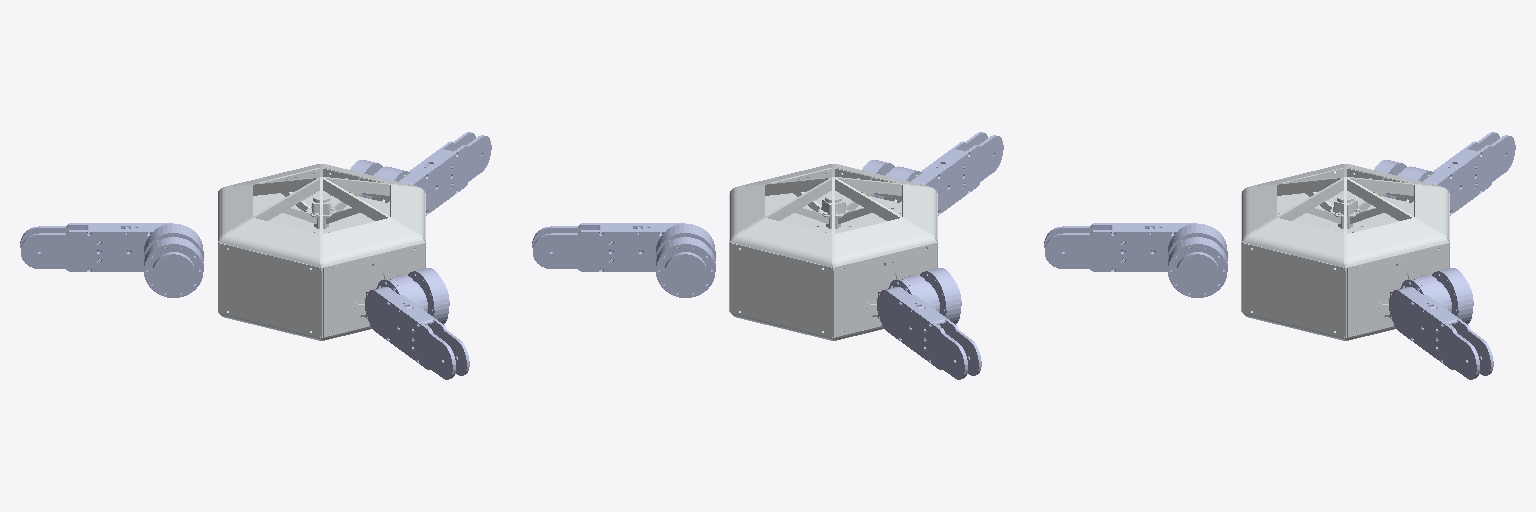
URDF robot description (tripod8):
<?xml version="1.0" encoding="utf-8"?>
<!-- This URDF was automatically created by SolidWorks to URDF Exporter! Originally created by [author] ([email redacted]) 
     Commit Version: 1.6.0-4-g7f85cfe  Build Version: 1.6.7995.38578
     For more information, please see http://wiki.ros.org/sw_urdf_exporter -->
<robot
  name="tripod8">
  <link
    name="base_link">
    <inertial>
      <origin
        xyz="-0.0031291 0.020397 0.025785"
        rpy="0 0 0" />
      <mass
        value="11.372" />
      <inertia
        ixx="0.040607"
        ixy="0.010264"
        ixz="-4.0858E-07"
        iyy="0.052892"
        iyz="-5.2154E-08"
        izz="0.071045" />
    </inertial>
    <visual>
      <origin
        xyz="0 0 0"
        rpy="0 0 0" />
      <geometry>
        <mesh
          filename="package://tripod8/meshes/base_link.STL" />
      </geometry>
      <material
        name="">
        <color
          rgba="0.89804 0.91765 0.92941 1" />
      </material>
    </visual>
    <collision>
      <origin
        xyz="0 0 0"
        rpy="0 0 0" />
      <geometry>
        <mesh
          filename="package://tripod8/meshes/base_link.STL" />
      </geometry>
    </collision>
  </link>
  <link
    name="sec01">
    <inertial>
      <origin
        xyz="0.00048653 0.015913 -3.1489E-05"
        rpy="0 0 0" />
      <mass
        value="0.69712" />
      <inertia
        ixx="0.0011428"
        ixy="-9.0045E-05"
        ixz="-4.1383E-07"
        iyy="0.0011939"
        iyz="-4.927E-19"
        izz="0.00095487" />
    </inertial>
    <visual>
      <origin
        xyz="0 0 0"
        rpy="0 0 0" />
      <geometry>
        <mesh
          filename="package://tripod8/meshes/sec01.STL" />
      </geometry>
      <material
        name="">
        <color
          rgba="0.79216 0.81961 0.93333 1" />
      </material>
    </visual>
    <collision>
      <origin
        xyz="0 0 0"
        rpy="0 0 0" />
      <geometry>
        <mesh
          filename="package://tripod8/meshes/sec01.STL" />
      </geometry>
    </collision>
  </link>
  <joint
    name="leg01"
    type="revolute">
    <origin
      xyz="-0.0027021 -0.19892 0.029643"
      rpy="0 0 -1.5708" />
    <parent
      link="base_link" />
    <child
      link="sec01" />
    <axis
      xyz="1 0 0" />
    <limit
      lower="-1.571"
      upper="1.571"
      effort="10000"
      velocity="10000" />
  </joint>
  <link
    name="hsec01">
    <inertial>
      <origin
        xyz="-0.085802207284442 -0.0586652892981549 -0.00128195126910838"
        rpy="0 0 0" />
      <mass
        value="2.59385289729097" />
      <inertia
        ixx="0.0132813286063691"
        ixy="2.30713341803901E-07"
        ixz="7.37838868928084E-06"
        iyy="0.00186263080107763"
        iyz="1.88984474958546E-06"
        izz="0.0117381218254458" />
    </inertial>
    <visual>
      <origin
        xyz="0 0 0"
        rpy="0 0 0" />
      <geometry>
        <mesh
          filename="package://tripod8/meshes/hsec01.STL" />
      </geometry>
      <material
        name="">
        <color
          rgba="0.792156862745098 0.819607843137255 0.933333333333333 1" />
      </material>
    </visual>
    <collision>
      <origin
        xyz="0 0 0"
        rpy="0 0 0" />
      <geometry>
        <mesh
          filename="package://tripod8/meshes/hsec01.STL" />
      </geometry>
    </collision>
  </link>
  <joint
    name="high01"
    type="revolute">
    <origin
      xyz="0.078806 0.0895 0"
      rpy="0 0 1.5708" />
    <parent
      link="sec01" />
    <child
      link="hsec01" />
    <axis
      xyz="-1 0 0" />
    <limit
      lower="-1.571"
      upper="1.571"
      effort="10000"
      velocity="10000" />
  </joint>
  <link
    name="lsec01">
    <inertial>
      <origin
        xyz="-0.00741155948002789 -0.0534070820824173 -2.19114356152239E-07"
        rpy="0 0 0" />
      <mass
        value="0.292019066527945" />
      <inertia
        ixx="0.000681104991544854"
        ixy="3.0350485896022E-10"
        ixz="-6.21574685994639E-10"
        iyy="8.62621908768422E-05"
        iyz="-1.16761217824152E-09"
        izz="0.000615710465634299" />
    </inertial>
    <visual>
      <origin
        xyz="0 0 0"
        rpy="0 0 0" />
      <geometry>
        <mesh
          filename="package://tripod8/meshes/lsec01.STL" />
      </geometry>
      <material
        name="">
        <color
          rgba="0.792156862745098 0.819607843137255 0.933333333333333 1" />
      </material>
    </visual>
    <collision>
      <origin
        xyz="0 0 0"
        rpy="0 0 0" />
      <geometry>
        <mesh
          filename="package://tripod8/meshes/lsec01.STL" />
      </geometry>
    </collision>
  </link>
  <joint
    name="low01"
    type="revolute">
    <origin
      xyz="-0.10655 -0.26964 -0.0021"
      rpy="0 0 0" />
    <parent
      link="hsec01" />
    <child
      link="lsec01" />
    <axis
      xyz="-1 0 0" />
    <limit
      lower="-1.571"
      upper="1.571"
      effort="10000"
      velocity="10000" />
  </joint>
  <link
    name="sec02">
    <inertial>
      <origin
        xyz="0.00048653095865675 0.0159126224363777 -3.14892804915562E-05"
        rpy="0 0 0" />
      <mass
        value="0.697122142025587" />
      <inertia
        ixx="0.00114281706366662"
        ixy="-9.00446160794231E-05"
        ixz="-4.13827473961487E-07"
        iyy="0.00119389494778556"
        iyz="-6.26913266013083E-19"
        izz="0.000954871408355487" />
    </inertial>
    <visual>
      <origin
        xyz="0 0 0"
        rpy="0 0 0" />
      <geometry>
        <mesh
          filename="package://tripod8/meshes/sec02.STL" />
      </geometry>
      <material
        name="">
        <color
          rgba="0.792156862745098 0.819607843137255 0.933333333333333 1" />
      </material>
    </visual>
    <collision>
      <origin
        xyz="0 0 0"
        rpy="0 0 0" />
      <geometry>
        <mesh
          filename="package://tripod8/meshes/sec02.STL" />
      </geometry>
    </collision>
  </link>
  <joint
    name="leg02"
    type="revolute">
    <origin
      xyz="0.18577 0.12753 0.029643"
      rpy="0 0 0.5236" />
    <parent
      link="base_link" />
    <child
      link="sec02" />
    <axis
      xyz="1 0 0" />
    <limit
      lower="-1.571"
      upper="1.571"
      effort="10000"
      velocity="10000" />
  </joint>
  <link
    name="hsec02">
    <inertial>
      <origin
        xyz="-0.0936880803892596 0.0449324326469038 -0.00132320363478538"
        rpy="0 0 0" />
      <mass
        value="2.58967801426391" />
      <inertia
        ixx="0.00471738722941004"
        ixy="-0.00494456996283436"
        ixz="5.32584938980878E-06"
        iyy="0.0104263520174632"
        iyz="-5.44494872557975E-06"
        izz="0.0117379962530972" />
    </inertial>
    <visual>
      <origin
        xyz="0 0 0"
        rpy="0 0 0" />
      <geometry>
        <mesh
          filename="package://tripod8/meshes/hsec02.STL" />
      </geometry>
      <material
        name="">
        <color
          rgba="0.792156862745098 0.819607843137255 0.933333333333333 1" />
      </material>
    </visual>
    <collision>
      <origin
        xyz="0 0 0"
        rpy="0 0 0" />
      <geometry>
        <mesh
          filename="package://tripod8/meshes/hsec02.STL" />
      </geometry>
    </collision>
  </link>
  <joint
    name="high02"
    type="revolute">
    <origin
      xyz="0.078806 0.0895 0"
      rpy="0 0 2.618" />
    <parent
      link="sec02" />
    <child
      link="hsec02" />
    <axis
      xyz="-0.5 0.86603 0" />
    <limit
      lower="-1.571"
      upper="1.571"
      effort="10000"
      velocity="10000" />
  </joint>
  <link
    name="lsec02">
    <inertial>
      <origin
        xyz="-0.0499576697652945 -0.0202849427339908 -2.19055842926724E-07"
        rpy="0 0 0" />
      <mass
        value="0.292019079957839" />
      <inertia
        ixx="0.000234972541236232"
        ixy="-0.000257573690181133"
        ixz="-1.32698808812887E-09"
        iyy="0.000532392318918857"
        iyz="-3.6971385606356E-11"
        izz="0.000615708168370943" />
    </inertial>
    <visual>
      <origin
        xyz="0 0 0"
        rpy="0 0 0" />
      <geometry>
        <mesh
          filename="package://tripod8/meshes/lsec02.STL" />
      </geometry>
      <material
        name="">
        <color
          rgba="0.792156862745098 0.819607843137255 0.933333333333333 1" />
      </material>
    </visual>
    <collision>
      <origin
        xyz="0 0 0"
        rpy="0 0 0" />
      <geometry>
        <mesh
          filename="package://tripod8/meshes/lsec02.STL" />
      </geometry>
    </collision>
  </link>
  <joint
    name="low02"
    type="revolute">
    <origin
      xyz="-0.28679 -0.042547 -0.0021"
      rpy="0 0 0" />
    <parent
      link="hsec02" />
    <child
      link="lsec02" />
    <axis
      xyz="-0.5 0.86603 0" />
    <limit
      lower="-1.571"
      upper="1.571"
      effort="10000"
      velocity="10000" />
  </joint>
  <link
    name="sec03">
    <inertial>
      <origin
        xyz="0 0 0"
        rpy="0 0 0" />
      <mass
        value="0" />
      <inertia
        ixx="0"
        ixy="0"
        ixz="0"
        iyy="0"
        iyz="0"
        izz="0" />
    </inertial>
    <visual>
      <origin
        xyz="0 0 0"
        rpy="0 0 0" />
      <geometry>
        <mesh
          filename="package://tripod8/meshes/sec03.STL" />
      </geometry>
      <material
        name="">
        <color
          rgba="1 1 1 1" />
      </material>
    </visual>
    <collision>
      <origin
        xyz="0 0 0"
        rpy="0 0 0" />
      <geometry>
        <mesh
          filename="package://tripod8/meshes/sec03.STL" />
      </geometry>
    </collision>
  </link>
  <joint
    name="leg03"
    type="revolute">
    <origin
      xyz="-0.19118 0.12753 0.029643"
      rpy="0 0 2.618" />
    <parent
      link="base_link" />
    <child
      link="sec03" />
    <axis
      xyz="1 0 0" />
    <limit
      lower="-1.571"
      upper="1.571"
      effort="10000"
      velocity="10000" />
  </joint>
  <link
    name="hsec03">
    <inertial>
      <origin
        xyz="-0.00790452724722479 0.103639535857779 -0.0012819511920991"
        rpy="0 0 0" />
      <mass
        value="2.59385289637622" />
      <inertia
        ixx="0.00471710544810811"
        ixy="0.00494432583220453"
        ixz="-2.05253922379467E-06"
        iyy="0.010426853958564"
        iyz="-7.33479523115897E-06"
        izz="0.0117381218257232" />
    </inertial>
    <visual>
      <origin
        xyz="0 0 0"
        rpy="0 0 0" />
      <geometry>
        <mesh
          filename="package://tripod8/meshes/hsec03.STL" />
      </geometry>
      <material
        name="">
        <color
          rgba="0.792156862745098 0.819607843137255 0.933333333333333 1" />
      </material>
    </visual>
    <collision>
      <origin
        xyz="0 0 0"
        rpy="0 0 0" />
      <geometry>
        <mesh
          filename="package://tripod8/meshes/hsec03.STL" />
      </geometry>
    </collision>
  </link>
  <joint
    name="high03"
    type="revolute">
    <origin
      xyz="0.078806 0.0895 0"
      rpy="0 0 -2.618" />
    <parent
      link="sec03" />
    <child
      link="hsec03" />
    <axis
      xyz="0.5 0.86603 0" />
    <limit
      lower="-1.571"
      upper="1.571"
      effort="10000"
      velocity="10000" />
  </joint>
  <link
    name="lsec03">
    <inertial>
      <origin
        xyz="-0.0425461105280152 0.0331221400745612 -2.19054649374523E-07"
        rpy="0 0 0" />
      <mass
        value="0.292019079551133" />
      <inertia
        ixx="0.000234972015489013"
        ixy="0.000257573386670841"
        ixz="-6.95886932488568E-10"
        iyy="0.000532392844620643"
        iyz="1.13092032251536E-09"
        izz="0.000615708168399117" />
    </inertial>
    <visual>
      <origin
        xyz="0 0 0"
        rpy="0 0 0" />
      <geometry>
        <mesh
          filename="package://tripod8/meshes/lsec03.STL" />
      </geometry>
      <material
        name="">
        <color
          rgba="0.898039215686275 0.917647058823529 0.929411764705882 1" />
      </material>
    </visual>
    <collision>
      <origin
        xyz="0 0 0"
        rpy="0 0 0" />
      <geometry>
        <mesh
          filename="package://tripod8/meshes/lsec03.STL" />
      </geometry>
    </collision>
  </link>
  <joint
    name="low03"
    type="revolute">
    <origin
      xyz="-0.180243174572986 0.227096787723632 -0.00210000000002314"
      rpy="0 0 0" />
    <parent
      link="hsec03" />
    <child
      link="lsec03" />
    <axis
      xyz="0.500000000000065 0.866025403784401 0" />
    <limit
      lower="-1.571"
      upper="1.571"
      effort="10000"
      velocity="10000" />
  </joint>
</robot>

--- What the picture shows (computed from the rendered views, not written in the file) ---
The picture shows the robot from 3 angles, left to right: view 1: azimuth 30°, elevation 25°; view 2: azimuth 150°, elevation 25°; view 3: azimuth 270°, elevation 25°; orthographic projection.
Robot: tripod8 — 10 links, 9 joints (9 revolute); root link base_link; default pose: every joint at zero.
Visible links, largest first — view 1: base_link, hsec03, hsec01, hsec02; view 2: base_link, hsec02, hsec03, hsec01; view 3: base_link, hsec01, hsec02, hsec03.
Link boxes in pixels (x1,y1,x2,y2): base_link: (218, 164, 425, 340); hsec03: (20, 223, 203, 297); hsec01: (365, 268, 469, 379); hsec02: (350, 132, 491, 215); base_link: (729, 164, 937, 340); hsec02: (532, 223, 715, 297); hsec03: (877, 268, 981, 379); hsec01: (862, 132, 1003, 215); base_link: (1241, 164, 1449, 340); hsec01: (1044, 223, 1227, 297); hsec02: (1389, 268, 1493, 379); hsec03: (1374, 132, 1515, 215).
Size in the robot's own frame: 1.07 by 0.9455 by 0.333 metres.
Meshes: 10 distinct files referenced, 4 mesh visuals loaded (4 binary STL); not drawn: 6 (reference not matched to a file when rendering).